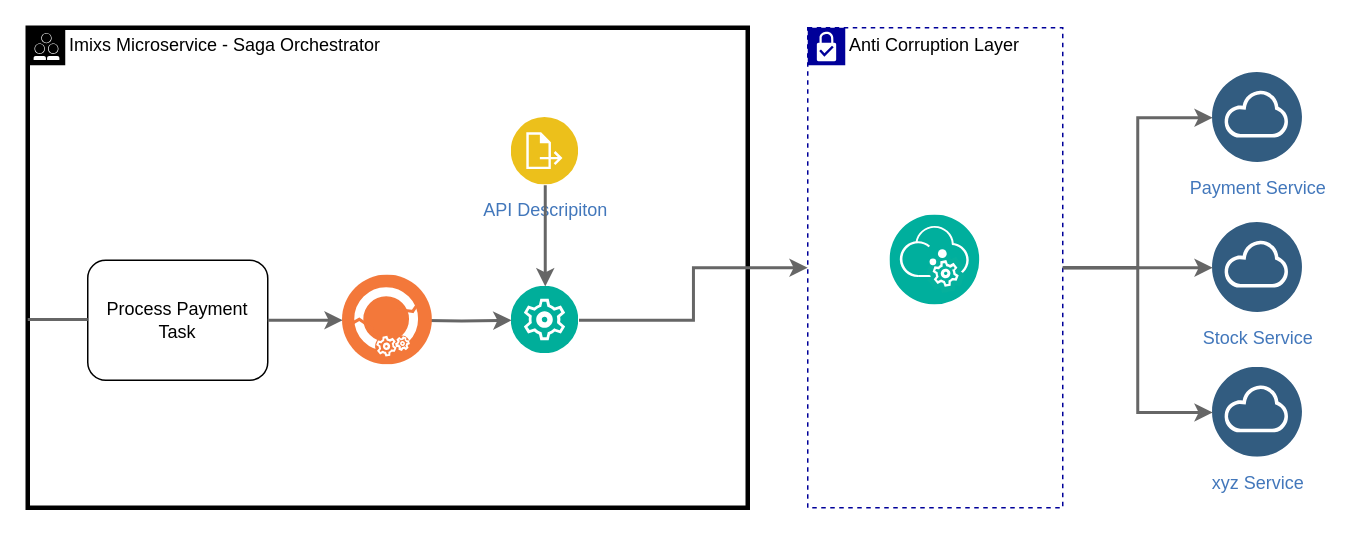
This 1352x536 diagram has some shape labels left out. The shapes that lost their labels are listed below. From the top down, each one's centre as x and y in pixels, then its label:
point (935, 259): Adapter Service
point (387, 319): Event
point (544, 319): Signal Adaper
